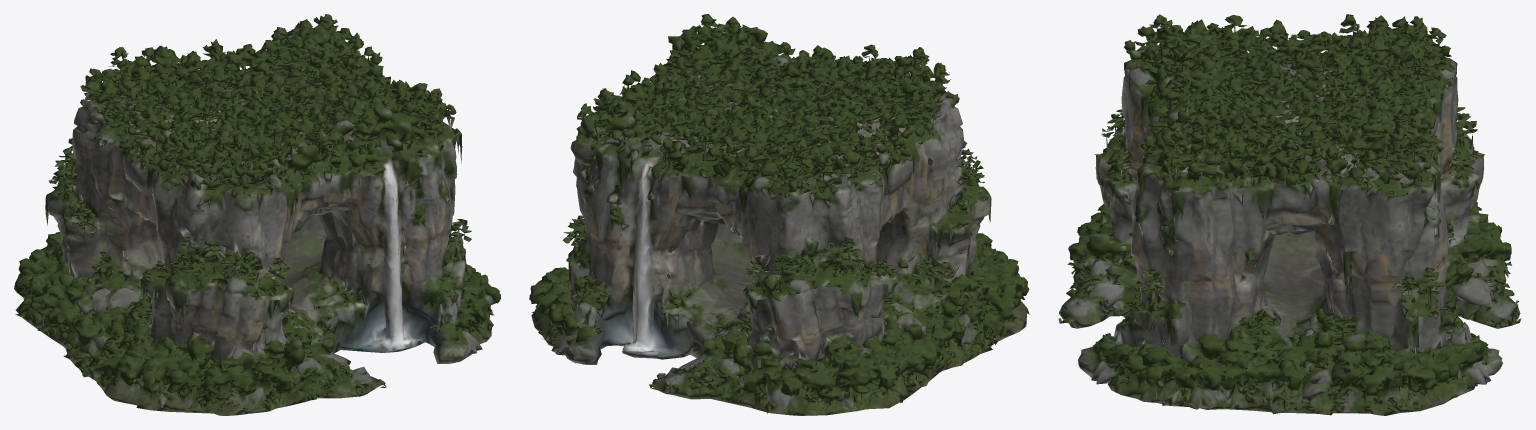
File: av_fallsgate_mid.glb
3 views of the same model, side by side, from view 1: azimuth 30°, elevation 25°; view 2: azimuth 150°, elevation 25°; view 3: azimuth 270°, elevation 25° (orthographic). The views are drawn at different scales.
Visible parts, largest first — view 1: av_fallsgate; view 2: av_fallsgate; view 3: av_fallsgate.
Part boxes in pixels (x1,y1,x2,y2): av_fallsgate: (14,14,500,415); av_fallsgate: (529,14,1029,415); av_fallsgate: (1058,14,1521,415).
Size of the model in its own units: 1.9 by 1.12 by 1.83.
1 material, 1 textured.
